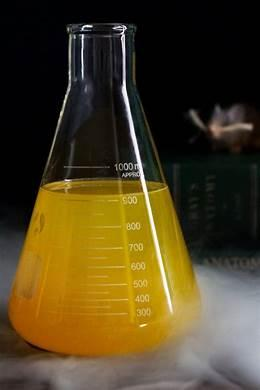Titrarion: (6, 22, 205, 345)
